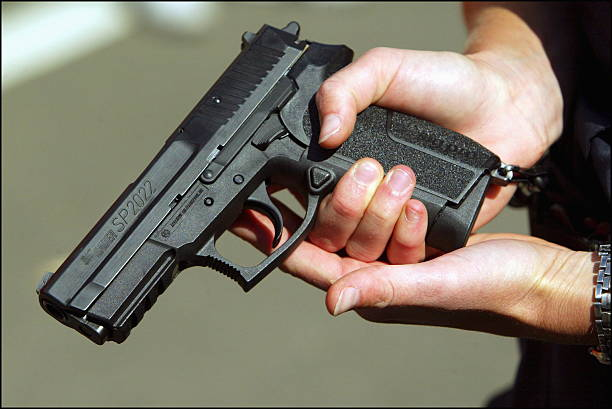pistol: (38, 11, 524, 363)
